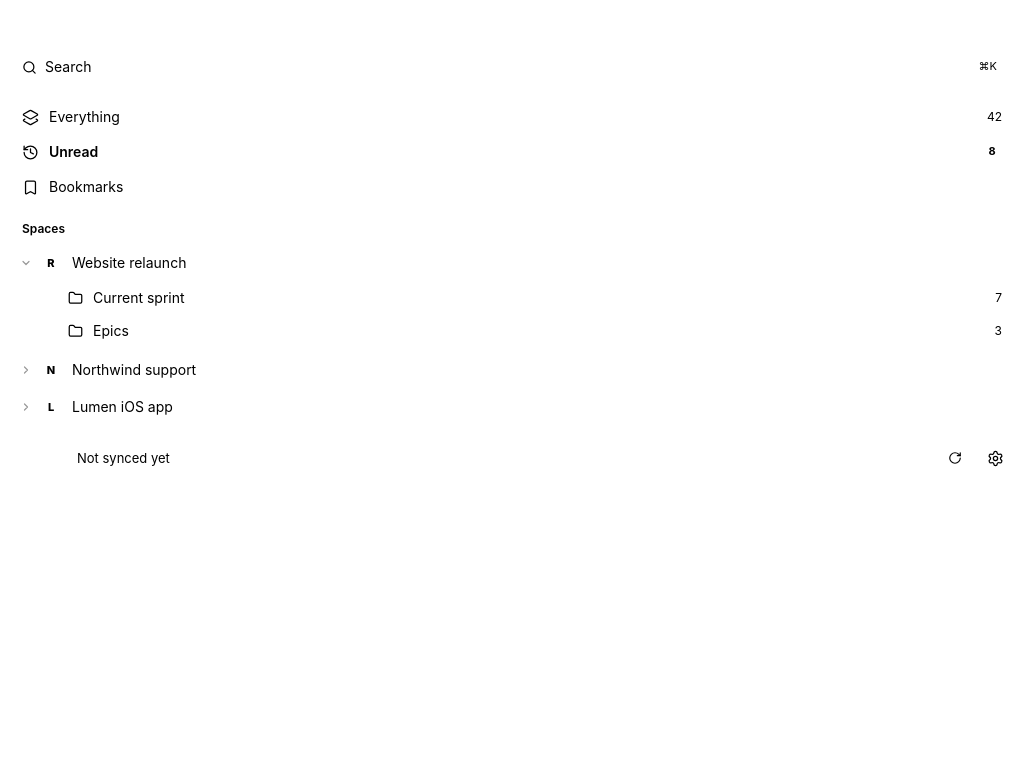
it: Sidebar › filter list context menu › asks first and deletes the list only when Delete Filter List is clicked
The width and height of the screenshot is (1024, 768).
expect the navigation bar "Spaces" is shown: met, box [12,220,1012,425]
Right-click the button "Epics 3" at (111,331), box [58,315,1012,347]
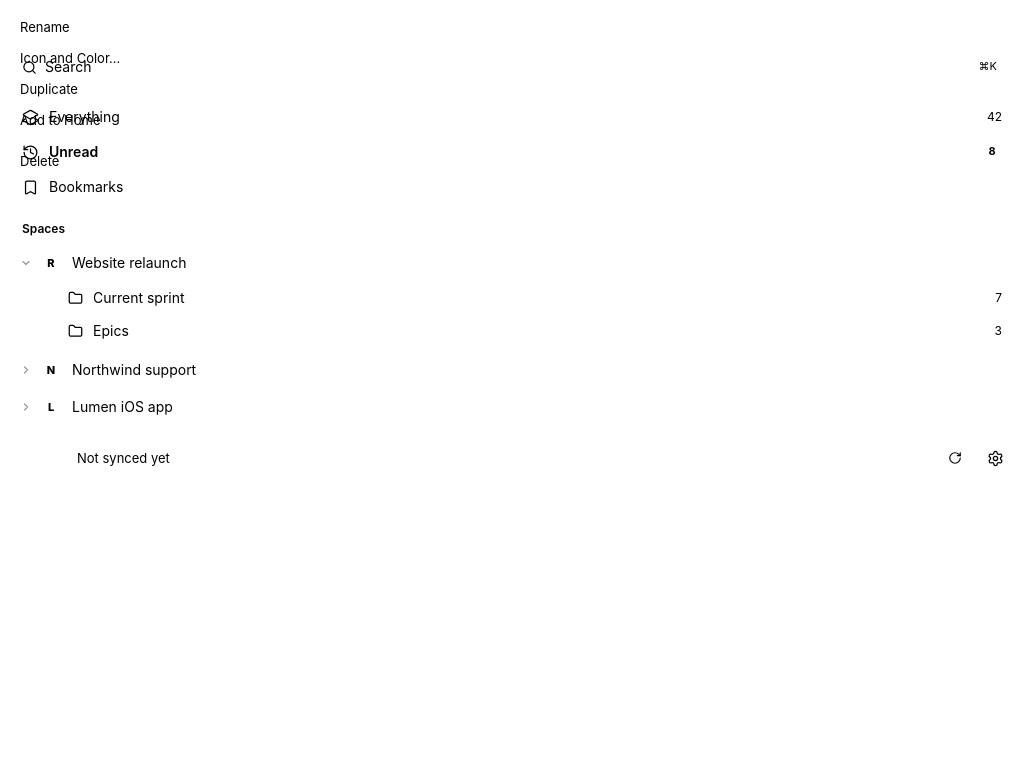
Click the menu item "Delete". click: (106,161)
box: [12,146,200,176]
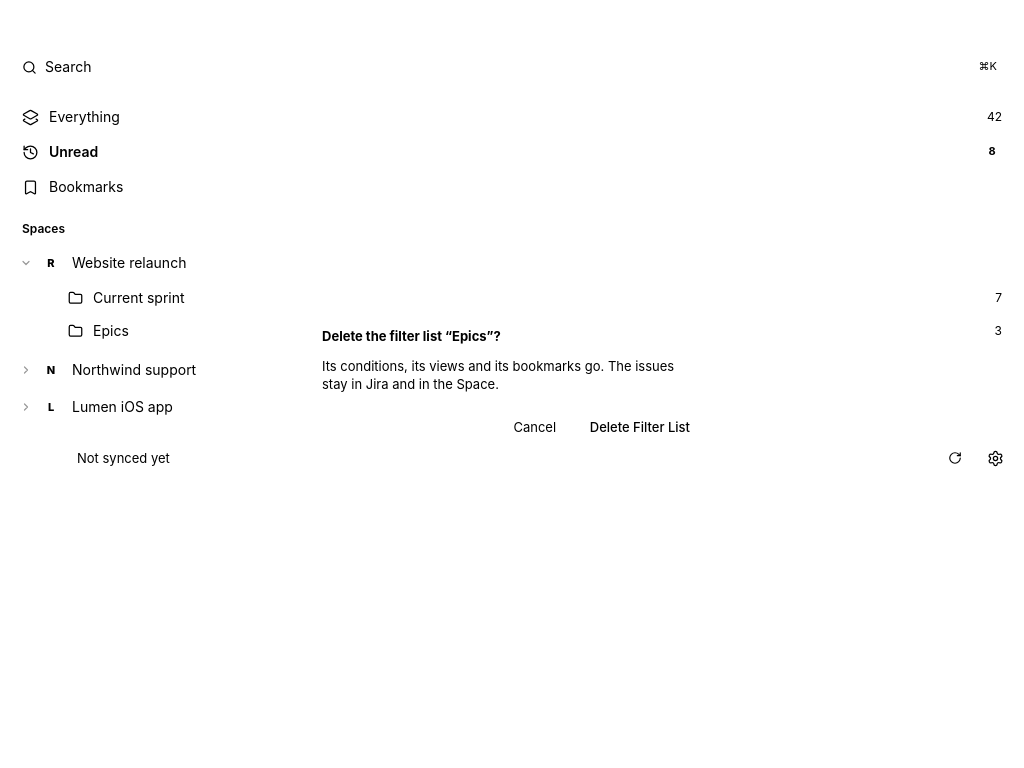
expect the dialog "Delete the filter list “Epics”?" is shown: met, box [302,307,722,461]
Click the button "Delete Filter List". click: (640,427)
box: [578,413,702,441]
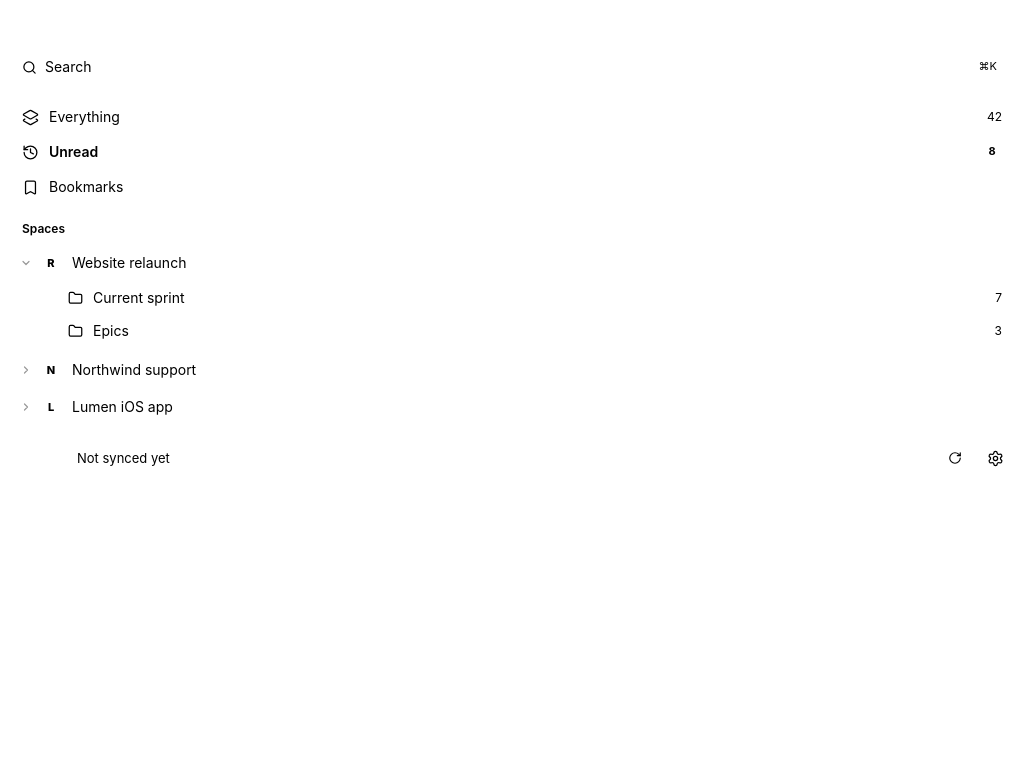
expect the dialog is gone: met
